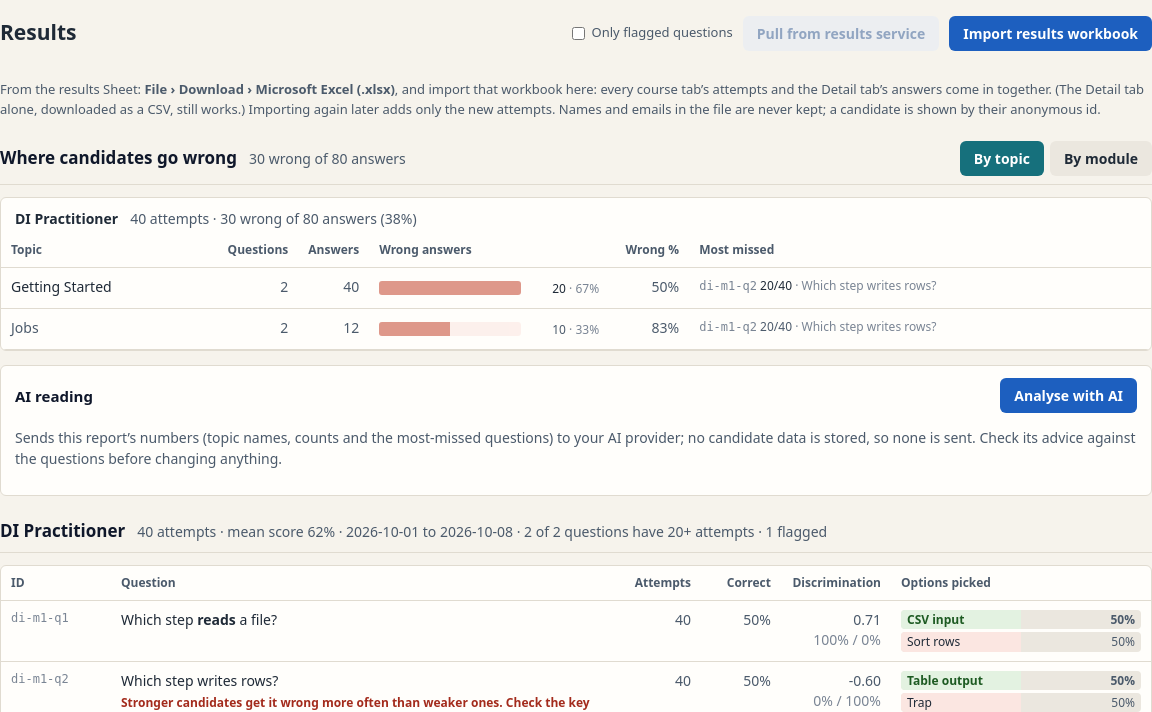
Test: ResultsPane › ranks topics by wrong answers, switches to modules, and dims thin rows
Check: the row that starts with "Getting Started" is shown, box [11,277,112,296]
Check: the picture named "20 wrong, 67%" is shown, box [379,277,599,299]
Click the button "By module" at {"x": 1101, "y": 159}, box [1050,141,1151,176]
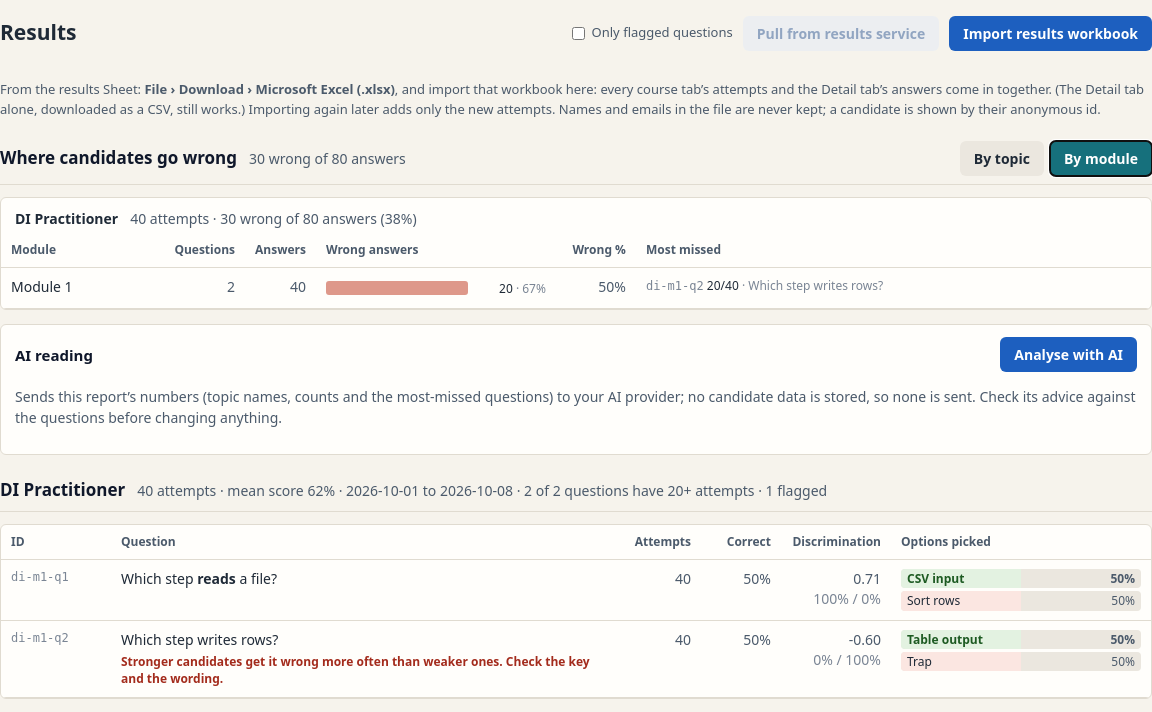
Check: the text "Module 1" is shown, box [1,268,164,309]
